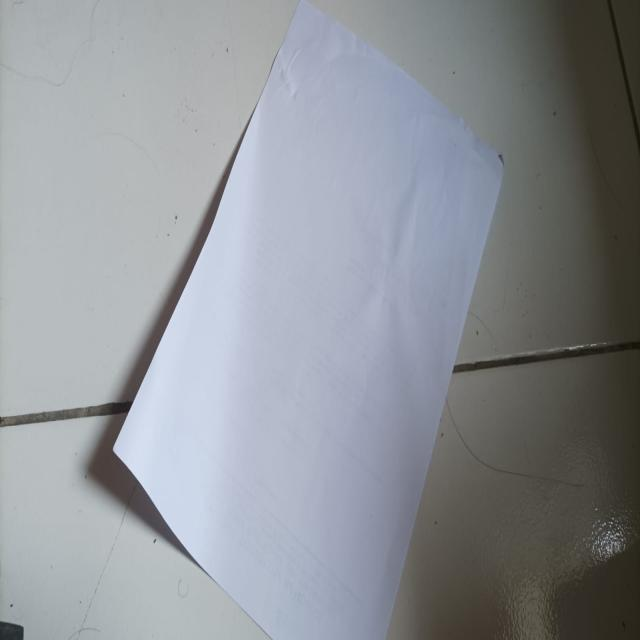Organik: (114, 7, 505, 639)
